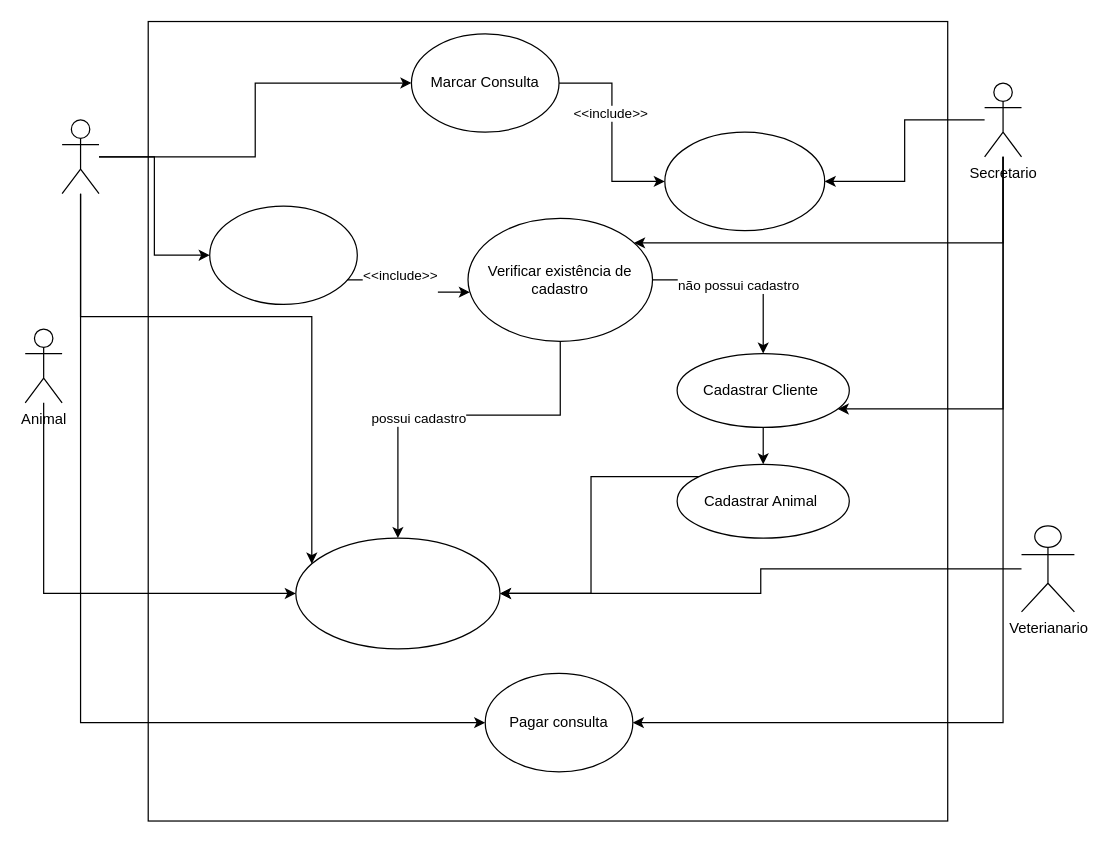
This 1108x843 diagram has some shape labels left out. The shapes that lost their labels are listed below. From the top down, each one's centre as x and y in pixels, then its label:
At point (80, 156): "Cliente".
At point (744, 181): "Confirmar a Consulta".
At point (282, 254): "ir ao PetShop".
At point (397, 593): "Realizar consulta".
